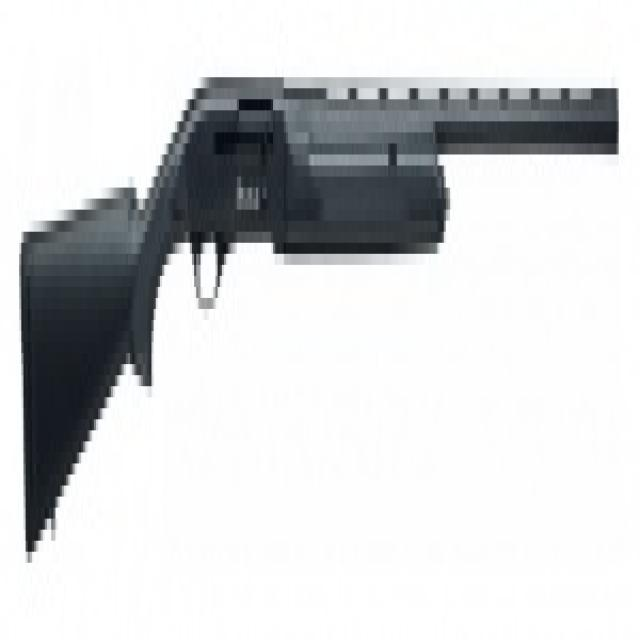rifle: (16, 36, 620, 588)
